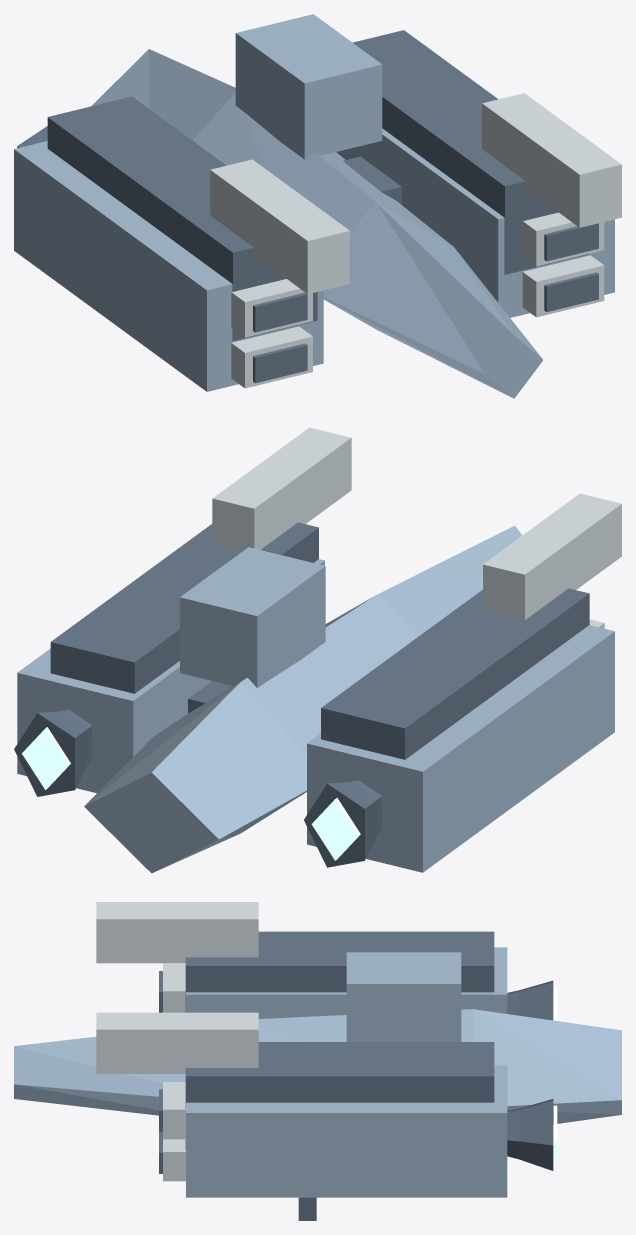
3 views of the same model, one above another, from view 1: azimuth 30°, elevation 25°; view 2: azimuth 150°, elevation 25°; view 3: azimuth 270°, elevation 25° (orthographic). The views are drawn at different scales.
Bounding box in the file's own units: 9.65 × 5.21 × 14.97.
